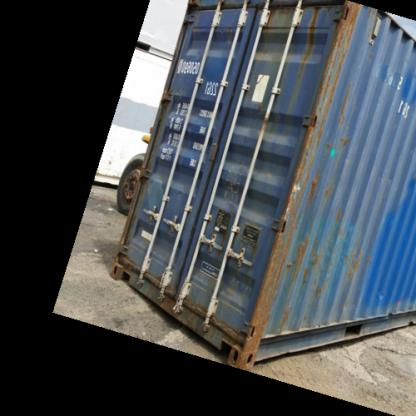Damage: (295, 236, 329, 297), (277, 306, 330, 338), (298, 1, 322, 63), (337, 84, 358, 150), (222, 164, 247, 206), (309, 170, 333, 212), (222, 265, 253, 297), (344, 242, 366, 286), (376, 164, 412, 190)
